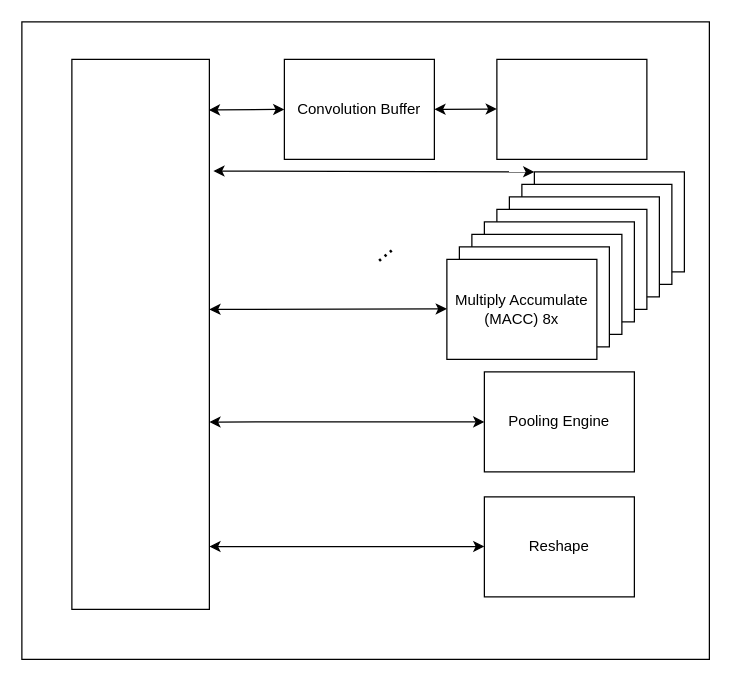
This 731x681 diagram has some shape labels left out. Here are the shapes that lost their labels. From the top down, the box of each, then its label:
(496, 58, 647, 159): Convolution Core
(71, 58, 209, 609): SRAM
